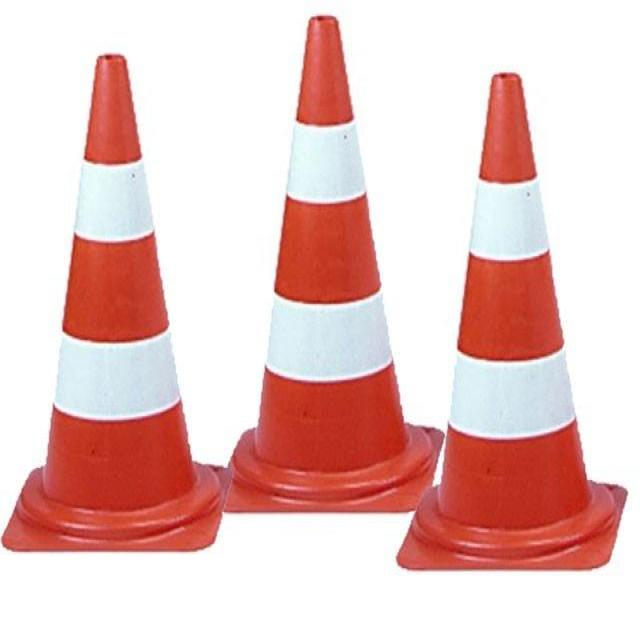cone: (5, 49, 218, 556), (402, 63, 604, 562), (230, 13, 429, 491)
